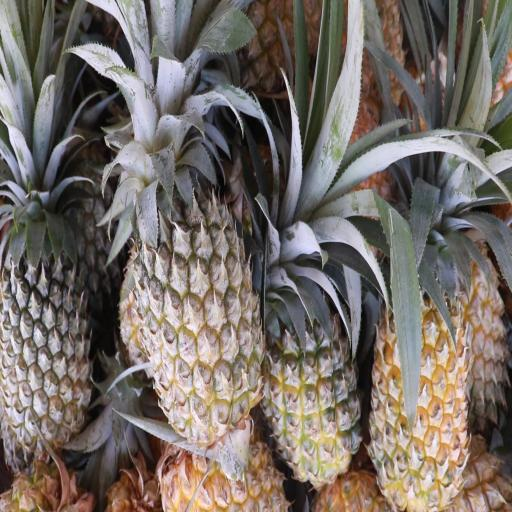------------------------------: (125, 127, 266, 467), (258, 270, 362, 497)
Pineapple - v8 v1: (364, 236, 470, 512)
